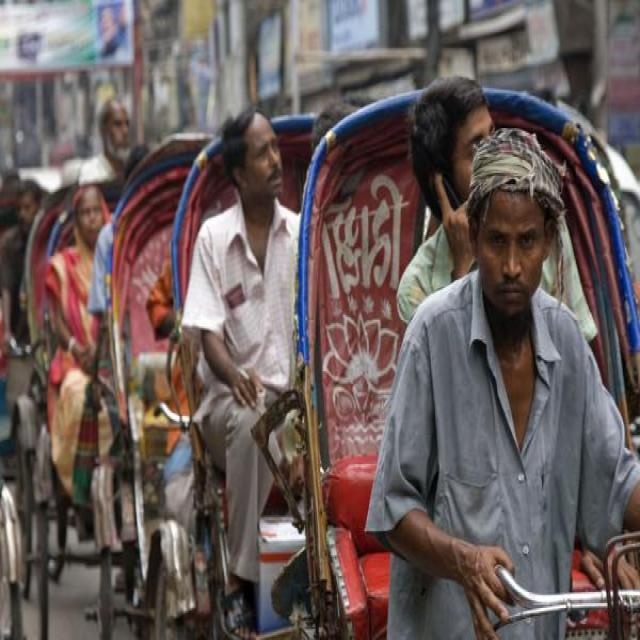Rickshaw: (284, 83, 640, 640)
